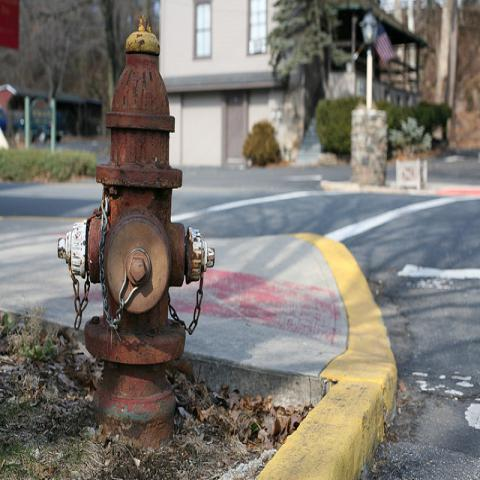car: (6, 92, 65, 138)
